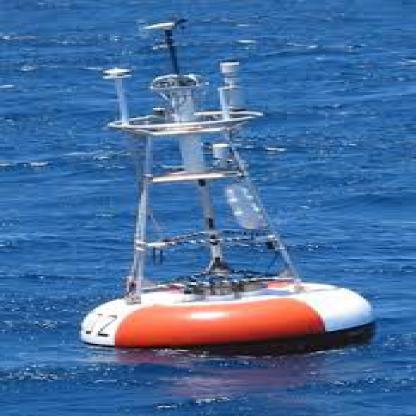buoy: (62, 16, 383, 350)
